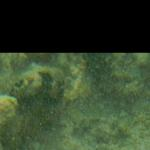dead: (1, 5, 147, 147)
